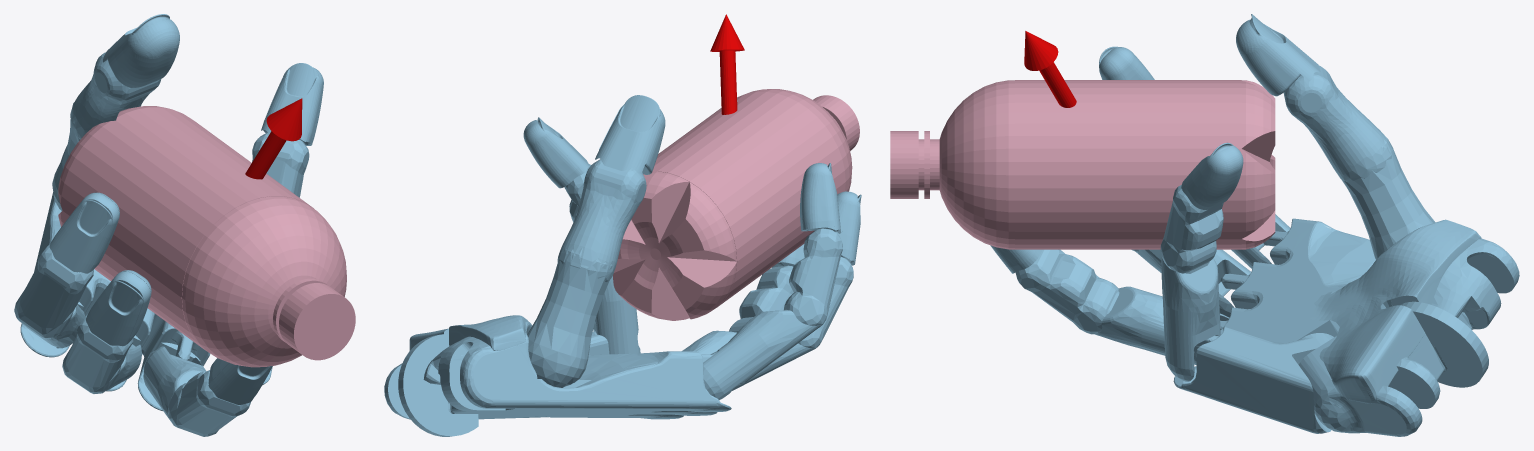
3 renders of one model, left to right at view 1: azimuth 30°, elevation 25°; view 2: azimuth 150°, elevation 25°; view 3: azimuth 270°, elevation 25°, orthographic. The views are drawn at different scales.
Parts seen in each view (by area): view 1: water_bottle.stl, world; view 2: world, water_bottle.stl; view 3: world, water_bottle.stl.
Boxes of the visible parts, x1=… form: water_bottle.stl: x1=58, y1=106, x2=355, y2=367; world: x1=14, y1=14, x2=323, y2=436; world: x1=384, y1=14, x2=861, y2=436; water_bottle.stl: x1=613, y1=89, x2=859, y2=320; world: x1=990, y1=14, x2=1519, y2=436; water_bottle.stl: x1=890, y1=80, x2=1275, y2=249.
Bounding box in the file's own units: 0.1485 × 0.1405 × 0.223.
